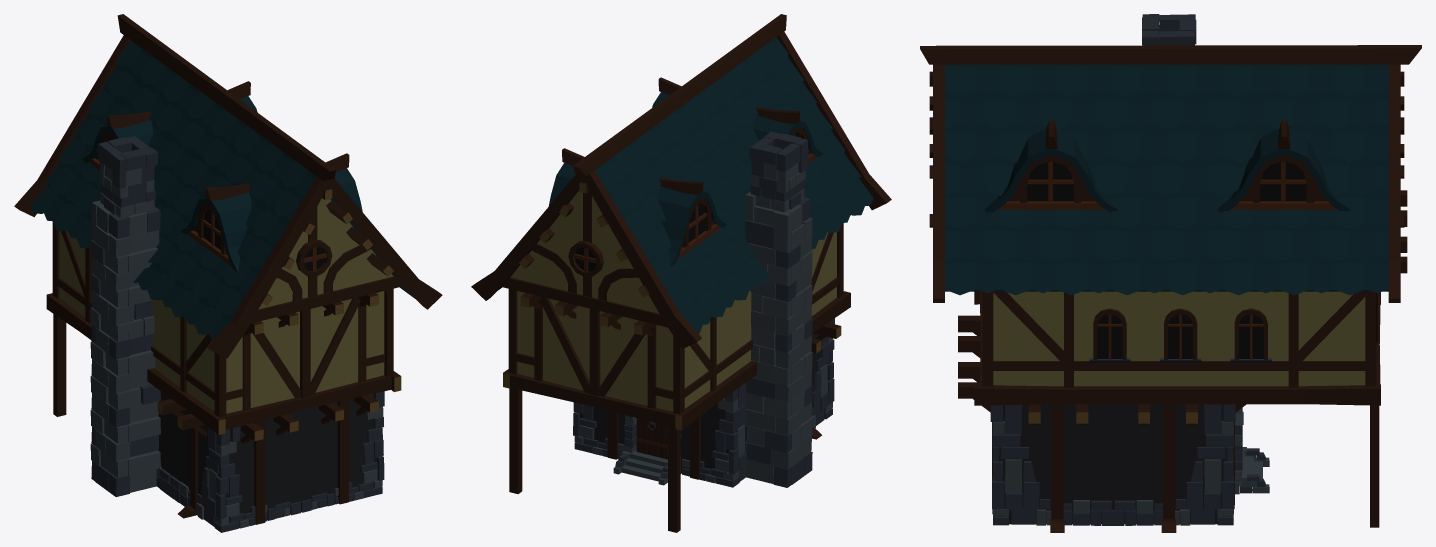
File: House_2.obj
The picture shows the model from 3 angles, left to right: view 1: azimuth 30°, elevation 25°; view 2: azimuth 150°, elevation 25°; view 3: azimuth 270°, elevation 25°; orthographic projection. The views are drawn at different scales.
Parts seen in each view (by area): view 1: House_2_Cylinder.021; view 2: House_2_Cylinder.021; view 3: House_2_Cylinder.021.
Part boxes in pixels (x1=…): House_2_Cylinder.021: x1=14, y1=14, x2=442, y2=532; House_2_Cylinder.021: x1=471, y1=14, x2=891, y2=532; House_2_Cylinder.021: x1=920, y1=14, x2=1421, y2=532.
Size of the model in its own units: 2.22 by 3.25 by 3.42.
